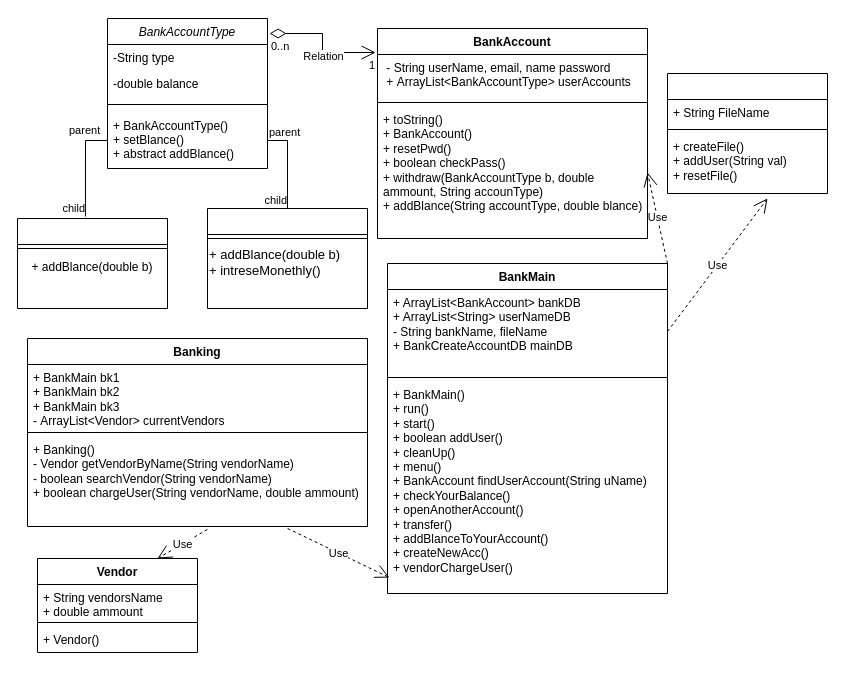
Image size: 845x673. Some labels were removed from this diagram. Each missing label, with the box of its shape:
BankCreateAccountDB: (666, 72, 828, 194)
CheckingAcc: (16, 218, 168, 308)
SavingAccount: (206, 208, 368, 308)
